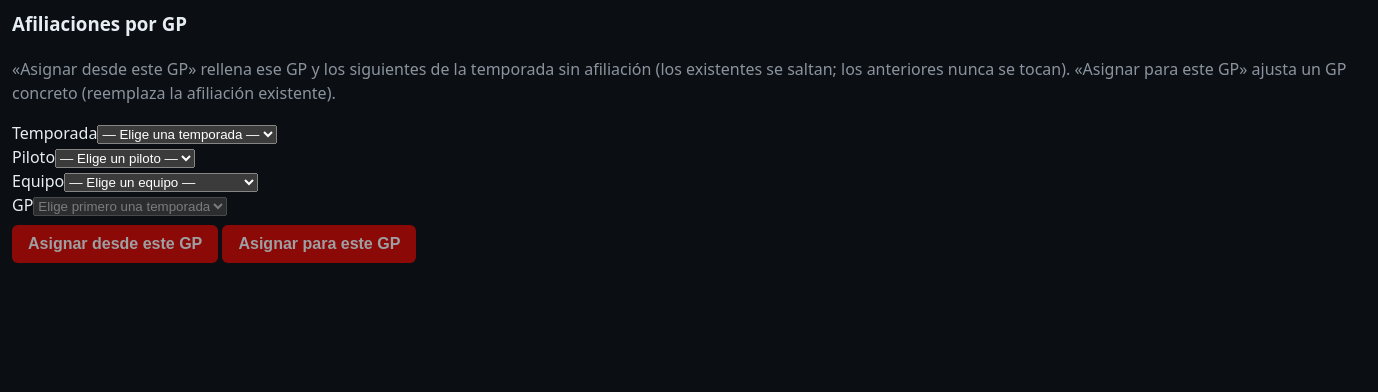
AffiliationsPanel › muestra las afiliaciones actuales del piloto (de la temporada elegida)
Select "Temporada 2026 (2026)" in the dropdown labelled "Temporada" at x=187, y=134, box [97, 124, 277, 144]
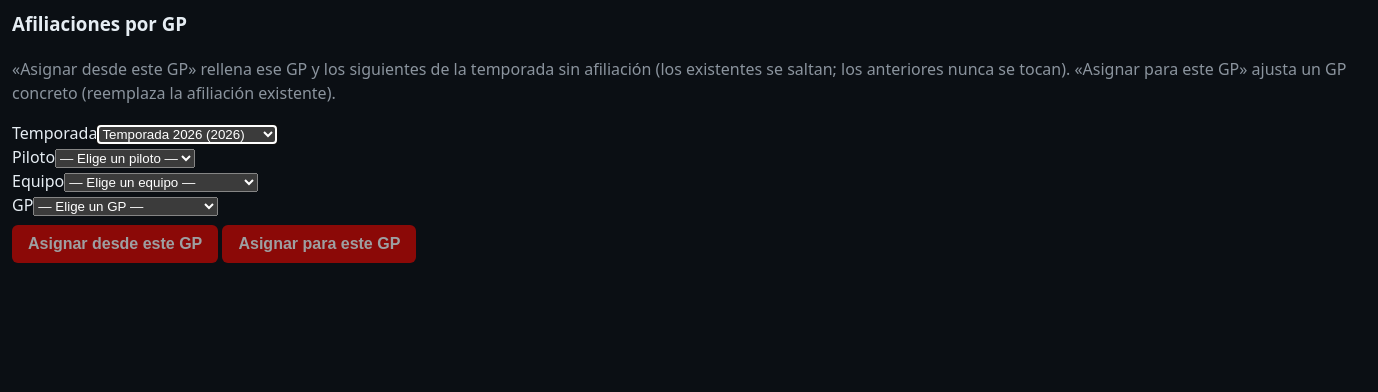
Select "Francesco Bagnaia" in the dropdown labelled "Piloto" at x=125, y=158, box [55, 148, 195, 168]
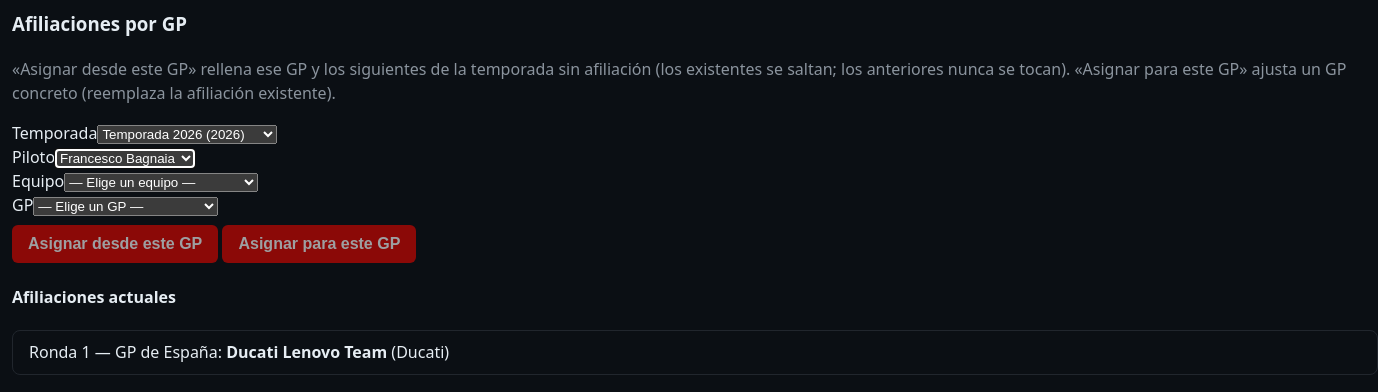
Now the heading "Afiliaciones actuales" is shown, box [12, 286, 176, 308]
Now the list item "Ronda 1 — GP de España: Ducati Lenovo Team (Ducati)" is shown, box [29, 341, 449, 363]
Now the text "Ducati Lenovo Team" is shown, box [226, 341, 387, 363]
